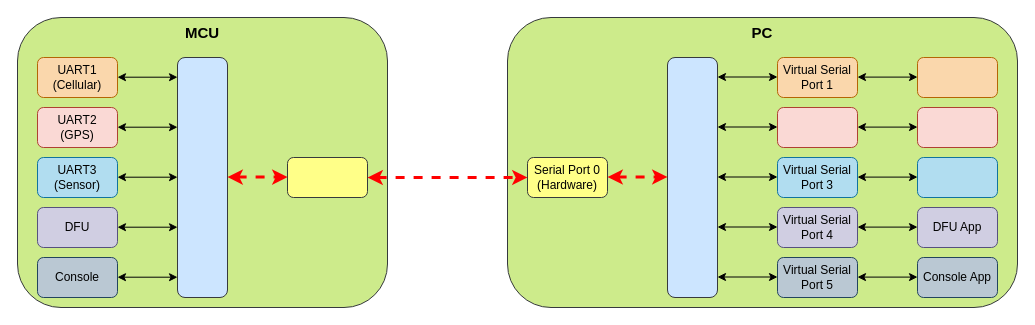
Image size: 1035x325. Some labels were removed from this diagram. The centre of each missing label's shape, as x and y in pixels:
Cellular App: point 957,77
GPS App: point 957,127
Sensor App: point 957,177
UART Demux Application: point 692,177
UART Mux: point 202,177
UART0: point 327,177
Virtual Serial Port 2: point 817,127
